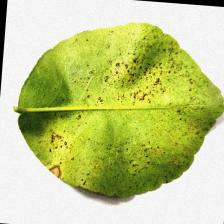canker: (69, 46, 192, 107)
